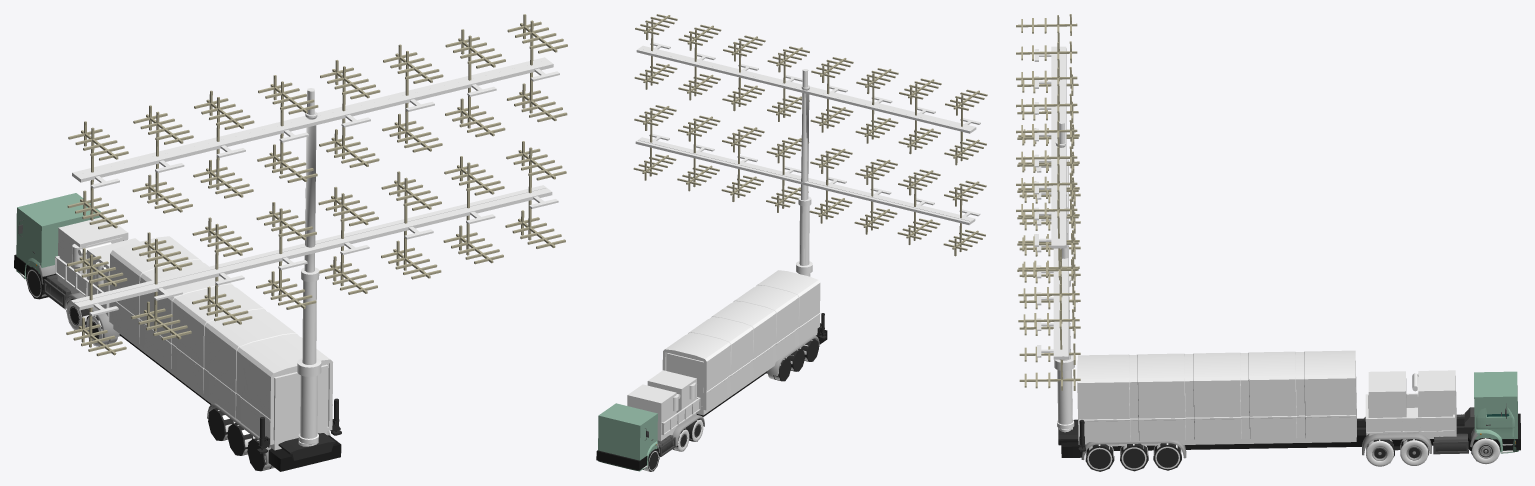
The model's file is car3Radar.glb.
3 views of the same model, side by side, from view 1: azimuth 30°, elevation 25°; view 2: azimuth 150°, elevation 25°; view 3: azimuth 270°, elevation 25° (orthographic). The views are drawn at different scales.
Visible parts, largest first — view 1: Scene Root_OSG_LOD001_001_001-OFFSET_001-GEODE_Material #398, Scene Root_OSG_LOD001_001_001-OFFSET_001-GEODE_Material #588, Scene Root_OSG_LOD001_002_002-OFFSET_002-GEODE_Material #398, Scene Root_OSG_LOD001_002_002-OFFSET_002-GEODE_Material #486, Scene Root_OSG_LOD001_002_002-OFFSET_002-GEODE_Material #487, Scene Root_OSG_LOD001_002_002-OFFSET_002-GEODE_Material #419, Scene Root_OSG_LOD001_001_001-OFFSET_001-GEODE_Material #487, Scene Root_OSG_LOD001_001_001-OFFSET_001-GEODE_Material #555, Scene Root_OSG_LOD001_001_001-OFFSET_001-GEODE_Material #556; view 2: Scene Root_OSG_LOD001_001_001-OFFSET_001-GEODE_Material #398, Scene Root_OSG_LOD001_001_001-OFFSET_001-GEODE_Material #588, Scene Root_OSG_LOD001_002_002-OFFSET_002-GEODE_Material #398, Scene Root_OSG_LOD001_002_002-OFFSET_002-GEODE_Material #486, Scene Root_OSG_LOD001_002_002-OFFSET_002-GEODE_Material #487, Scene Root_OSG_LOD001_002_002-OFFSET_002-GEODE_Material #419, Scene Root_OSG_LOD001_001_001-OFFSET_001-GEODE_Material #555; view 3: Scene Root_OSG_LOD001_001_001-OFFSET_001-GEODE_Material #398, Scene Root_OSG_LOD001_002_002-OFFSET_002-GEODE_Material #398, Scene Root_OSG_LOD001_001_001-OFFSET_001-GEODE_Material #588, Scene Root_OSG_LOD001_002_002-OFFSET_002-GEODE_Material #487, Scene Root_OSG_LOD001_002_002-OFFSET_002-GEODE_Material #486, Scene Root_OSG_LOD001_002_002-OFFSET_002-GEODE_Material #419, Scene Root_OSG_LOD001_001_001-OFFSET_001-GEODE_Material #556 (×2), Scene Root_OSG_LOD001_001_001-OFFSET_001-GEODE_Material #562, Scene Root_OSG_LOD001_001_001-OFFSET_001-GEODE_Material #555, Scene Root_OSG_LOD001_001_001-OFFSET_001-GEODE_Material #487.
Boxes of the visible parts, box(x1,y1,x2,y2) form: Scene Root_OSG_LOD001_001_001-OFFSET_001-GEODE_Material #398: box(55, 59, 559, 444); Scene Root_OSG_LOD001_001_001-OFFSET_001-GEODE_Material #588: box(66, 14, 567, 356); Scene Root_OSG_LOD001_002_002-OFFSET_002-GEODE_Material #398: box(57, 57, 553, 450); Scene Root_OSG_LOD001_002_002-OFFSET_002-GEODE_Material #486: box(16, 193, 100, 273); Scene Root_OSG_LOD001_002_002-OFFSET_002-GEODE_Material #487: box(26, 267, 271, 471); Scene Root_OSG_LOD001_002_002-OFFSET_002-GEODE_Material #419: box(14, 254, 341, 471); Scene Root_OSG_LOD001_001_001-OFFSET_001-GEODE_Material #487: box(257, 398, 341, 460); Scene Root_OSG_LOD001_001_001-OFFSET_001-GEODE_Material #555: box(38, 265, 330, 464); Scene Root_OSG_LOD001_001_001-OFFSET_001-GEODE_Material #556: box(18, 220, 71, 308); Scene Root_OSG_LOD001_001_001-OFFSET_001-GEODE_Material #398: box(638, 42, 980, 434); Scene Root_OSG_LOD001_001_001-OFFSET_001-GEODE_Material #588: box(633, 14, 987, 256); Scene Root_OSG_LOD001_002_002-OFFSET_002-GEODE_Material #398: box(627, 45, 976, 441); Scene Root_OSG_LOD001_002_002-OFFSET_002-GEODE_Material #486: box(598, 403, 657, 471); Scene Root_OSG_LOD001_002_002-OFFSET_002-GEODE_Material #487: box(643, 338, 818, 471); Scene Root_OSG_LOD001_002_002-OFFSET_002-GEODE_Material #419: box(596, 330, 827, 470); Scene Root_OSG_LOD001_001_001-OFFSET_001-GEODE_Material #555: box(656, 335, 819, 452); Scene Root_OSG_LOD001_001_001-OFFSET_001-GEODE_Material #398: box(1034, 47, 1455, 441); Scene Root_OSG_LOD001_002_002-OFFSET_002-GEODE_Material #398: box(1051, 46, 1456, 446); Scene Root_OSG_LOD001_001_001-OFFSET_001-GEODE_Material #588: box(1016, 14, 1080, 390); Scene Root_OSG_LOD001_002_002-OFFSET_002-GEODE_Material #487: box(1085, 438, 1497, 471); Scene Root_OSG_LOD001_002_002-OFFSET_002-GEODE_Material #486: box(1474, 371, 1518, 452); Scene Root_OSG_LOD001_002_002-OFFSET_002-GEODE_Material #419: box(1061, 413, 1520, 457); Scene Root_OSG_LOD001_001_001-OFFSET_001-GEODE_Material #556 (×2): box(1433, 403, 1514, 454); Scene Root_OSG_LOD001_001_001-OFFSET_001-GEODE_Material #562: box(1085, 438, 1499, 471); Scene Root_OSG_LOD001_001_001-OFFSET_001-GEODE_Material #555: box(1081, 417, 1493, 460); Scene Root_OSG_LOD001_001_001-OFFSET_001-GEODE_Material #487: box(1058, 416, 1474, 451).
Bounding box in the file's own units: 21 × 17.26 × 22.5.
